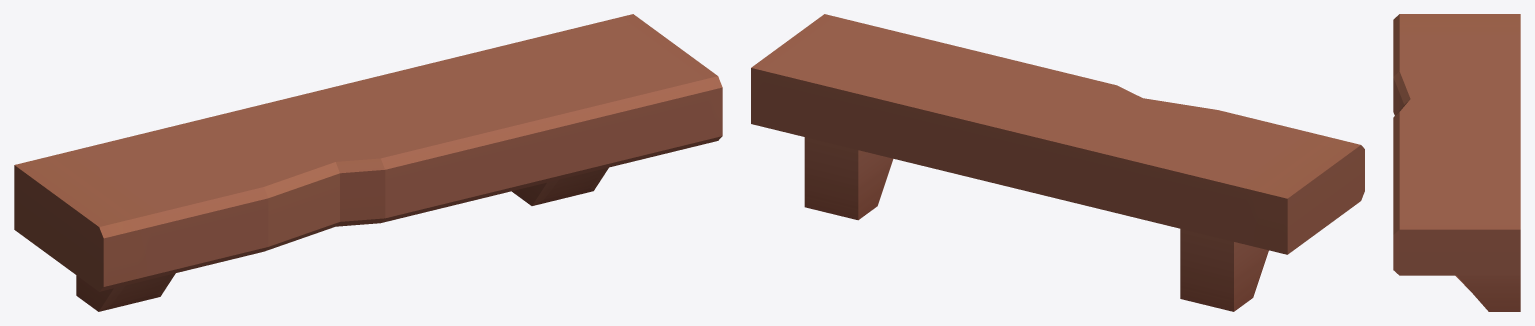
File: shelf_large.glb
3 views of the same model, side by side, from view 1: azimuth 30°, elevation 25°; view 2: azimuth 150°, elevation 25°; view 3: azimuth 270°, elevation 25° (orthographic). The views are drawn at different scales.
Parts seen in each view (by area): view 1: shelf_large; view 2: shelf_large; view 3: shelf_large.
Boxes of the visible parts, x1,y1,x2,y2 form: shelf_large: [14, 14, 722, 311]; shelf_large: [751, 14, 1364, 311]; shelf_large: [1393, 14, 1520, 311].
Size of the model in its own units: 2 by 0.45 by 0.5.
1 material, 1 textured.
